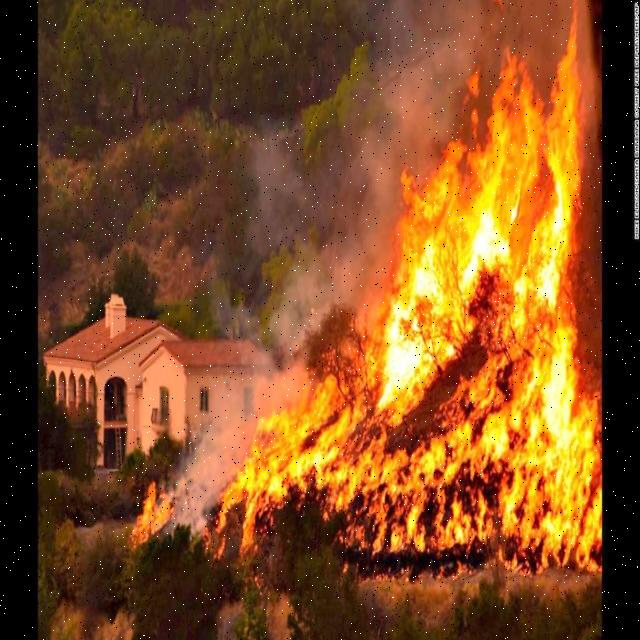fire: (534, 5, 584, 445), (382, 120, 461, 383), (472, 31, 522, 267), (245, 388, 341, 499), (134, 488, 173, 536)
